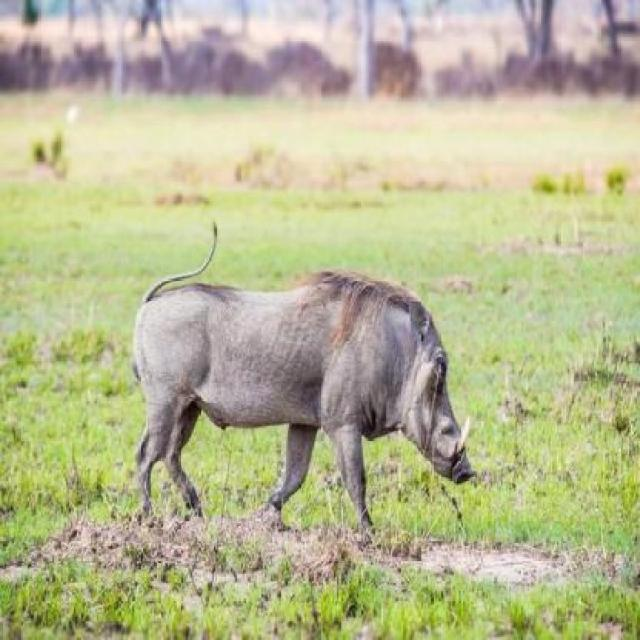wildboar: (119, 220, 483, 528)
